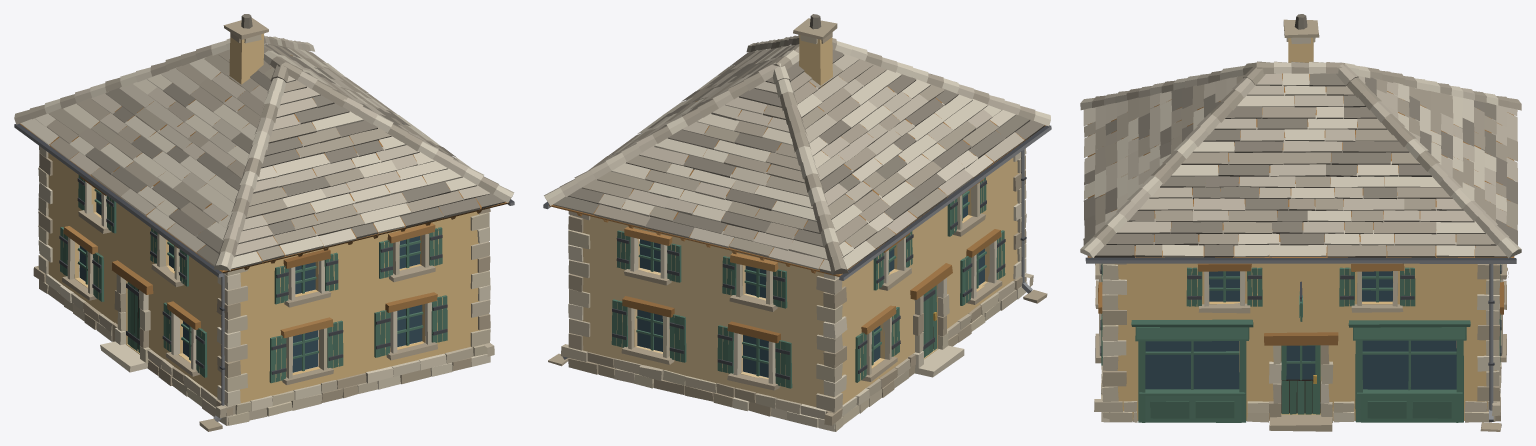
The model's file is epicerie.glb.
3 views of the same model, side by side, from view 1: azimuth 30°, elevation 25°; view 2: azimuth 150°, elevation 25°; view 3: azimuth 270°, elevation 25° (orthographic). The views are drawn at different scales.
Parts seen in each view (by area): view 1: epicerie; view 2: epicerie; view 3: epicerie.
Boxes of the visible parts, <box> form: epicerie: <box>14,14,514,431</box>; epicerie: <box>543,14,1051,431</box>; epicerie: <box>1080,14,1521,431</box>.
Bounding box in the file's own units: 9.65 × 9.32 × 11.28.
